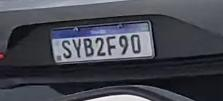Placa_mercosul_carro: (51, 19, 155, 66)
